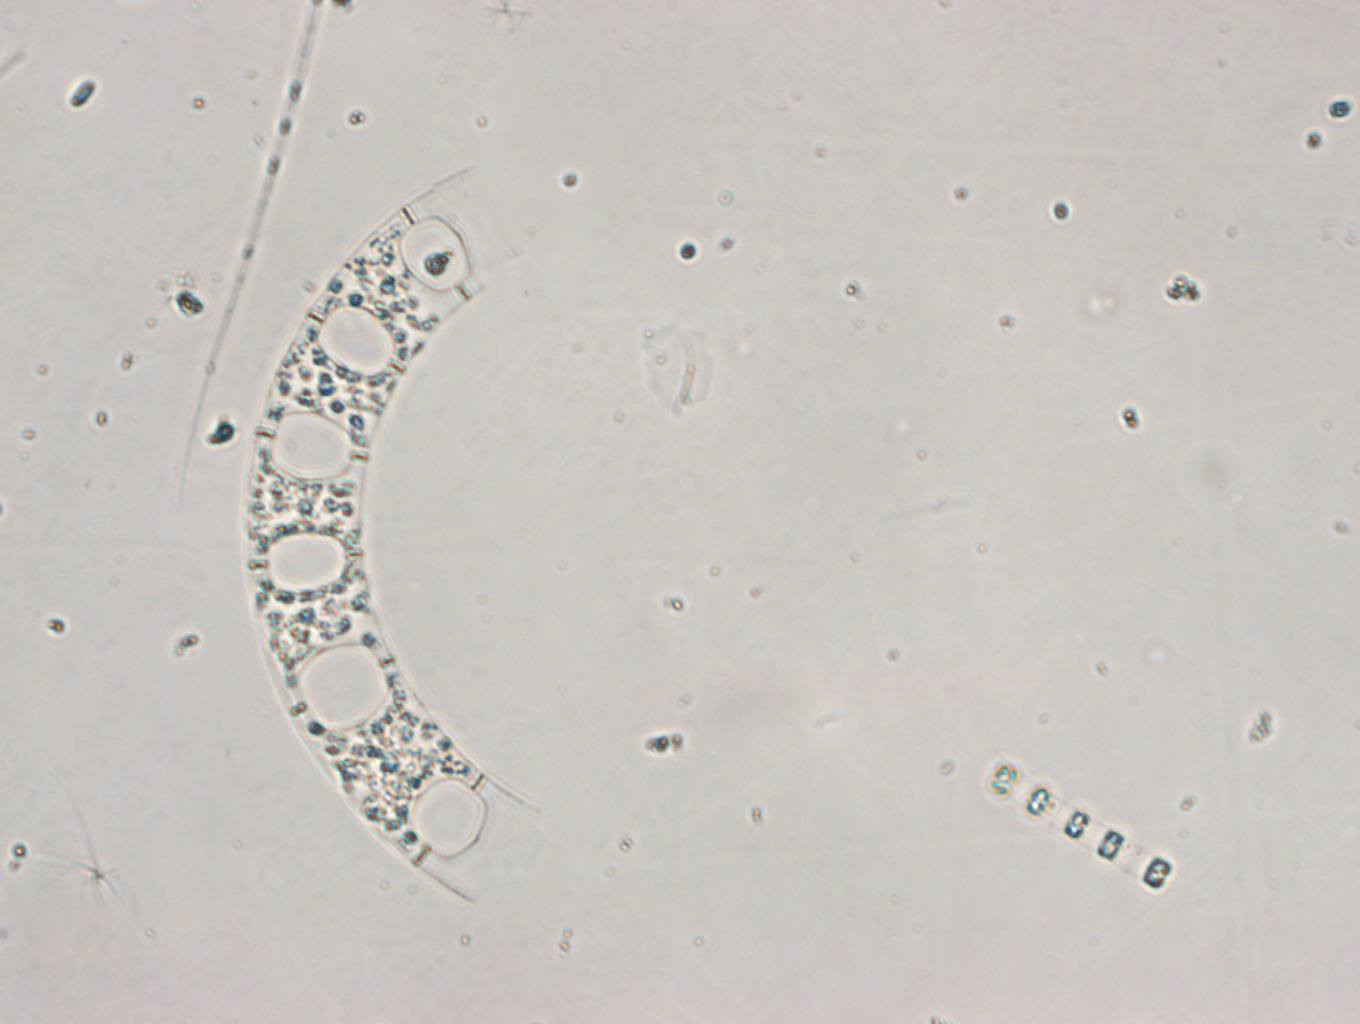eucampia: (241, 159, 536, 902)
skeletonema: (983, 758, 1174, 894)
